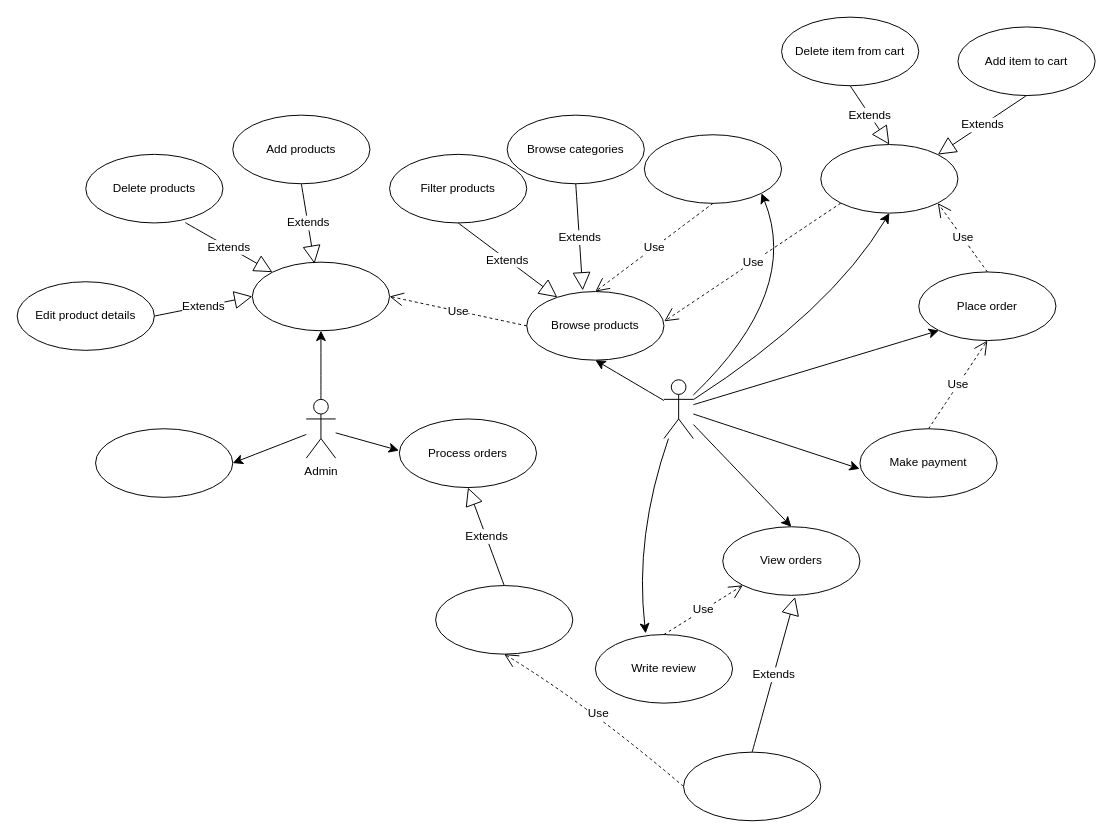
Some shapes in this 1112 by 838 pixel diagram are drawn without their labels. Each missing label, with the box of its shape:
Customer: (663, 379, 693, 439)
Generate sales report: (95, 428, 233, 497)
Manage cart: (820, 144, 958, 213)
Manage products: (251, 261, 390, 331)
Track order status: (683, 751, 821, 821)
Update order status: (435, 585, 573, 654)
View product details: (643, 134, 782, 203)
